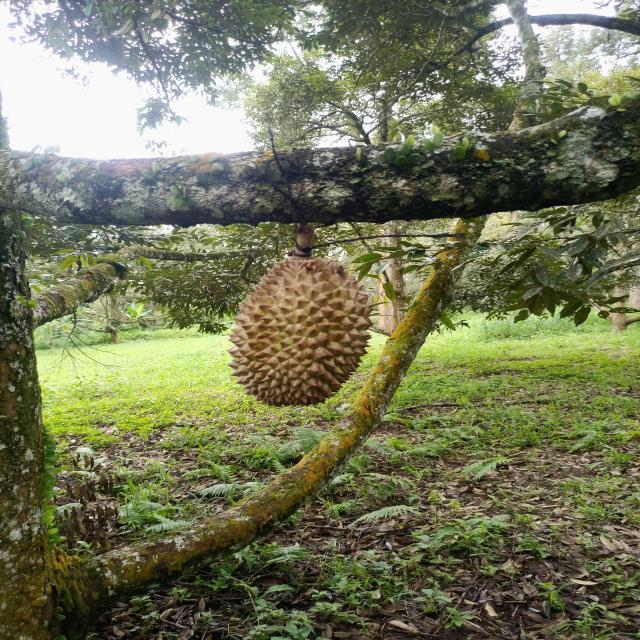mature: (225, 256, 373, 408)
